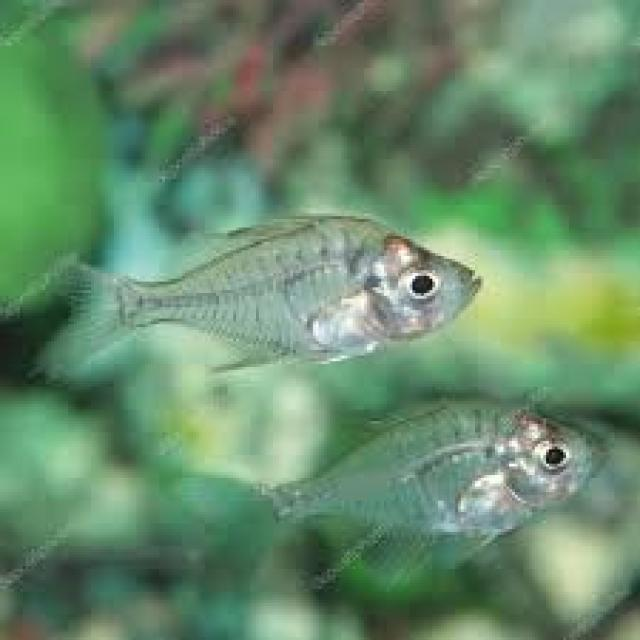Glass-Perchlet: (0, 149, 530, 411), (170, 366, 622, 599)
